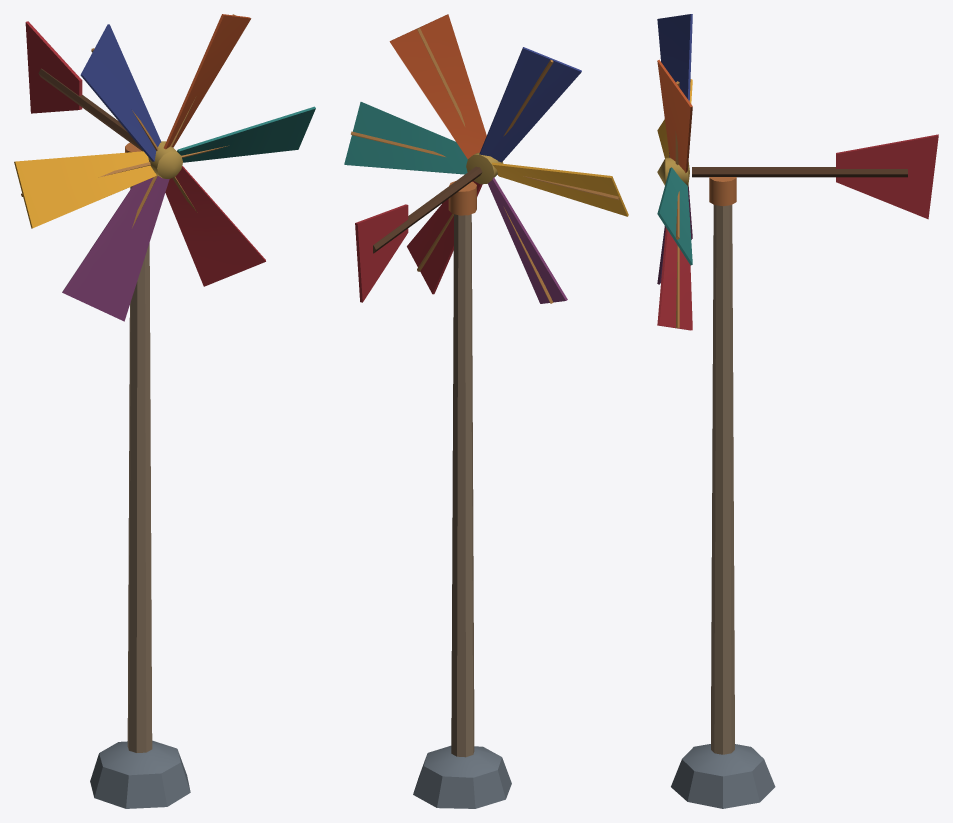
File: deco_wind_spinner.fbx
3 renders of one model, left to right at view 1: azimuth 30°, elevation 25°; view 2: azimuth 150°, elevation 25°; view 3: azimuth 270°, elevation 25°, orthographic. The views are drawn at different scales.
Visible parts, largest first — view 1: WindSpinner_Rotor, WindSpinner_Pole, WindSpinner_Vane; view 2: WindSpinner_Rotor, WindSpinner_Pole, WindSpinner_Vane; view 3: WindSpinner_Pole, WindSpinner_Rotor, WindSpinner_Vane.
Part boxes in pixels (<box>): WindSpinner_Rotor: <box>14,14,315,321</box>; WindSpinner_Pole: <box>90,142,190,808</box>; WindSpinner_Vane: <box>25,21,143,151</box>; WindSpinner_Rotor: <box>344,14,628,303</box>; WindSpinner_Pole: <box>413,181,511,808</box>; WindSpinner_Vane: <box>355,166,482,302</box>; WindSpinner_Pole: <box>671,177,775,808</box>; WindSpinner_Rotor: <box>657,14,692,330</box>; WindSpinner_Vane: <box>692,134,938,219</box>.
Size of the model in its own units: 152 by 403 by 137.
